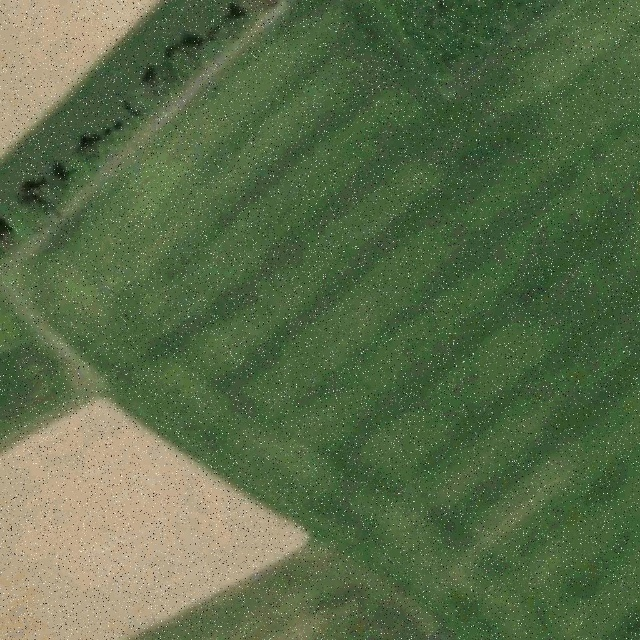vegetation: (0, 0, 286, 261)
